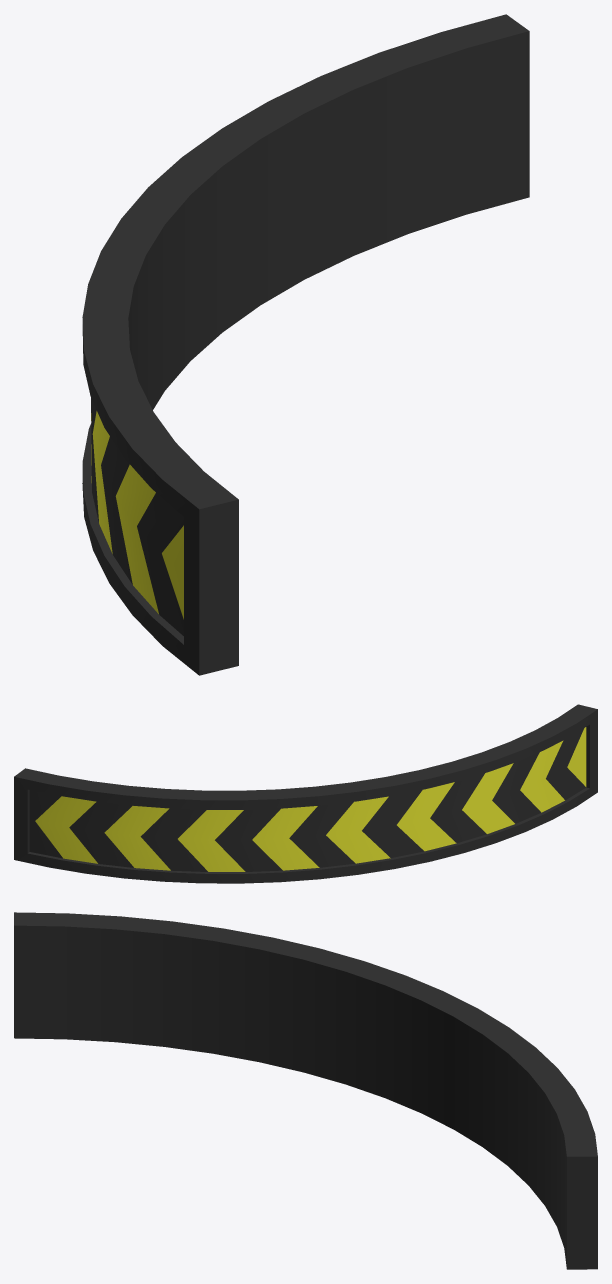
File: TrackArrowPanelCurvedOut.fbx
3 views of the same model, one above another, from view 1: azimuth 30°, elevation 25°; view 2: azimuth 150°, elevation 25°; view 3: azimuth 270°, elevation 25° (orthographic). The views are drawn at different scales.
Parts seen in each view (by area): view 1: TrackArrowPanelCurvedOut; view 2: TrackArrowPanelCurvedOut; view 3: TrackArrowPanelCurvedOut.
Part boxes in pixels (<box>): TrackArrowPanelCurvedOut: <box>82,14,529,675</box>; TrackArrowPanelCurvedOut: <box>14,704,597,883</box>; TrackArrowPanelCurvedOut: <box>14,912,597,1269</box>.
Bounding box in the file's own units: 18.56 × 4 × 18.76.
